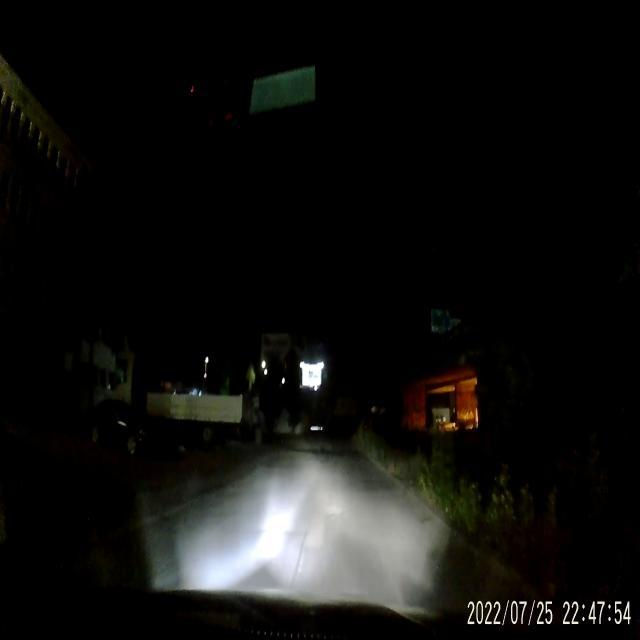Pothole: (323, 498, 346, 522)
